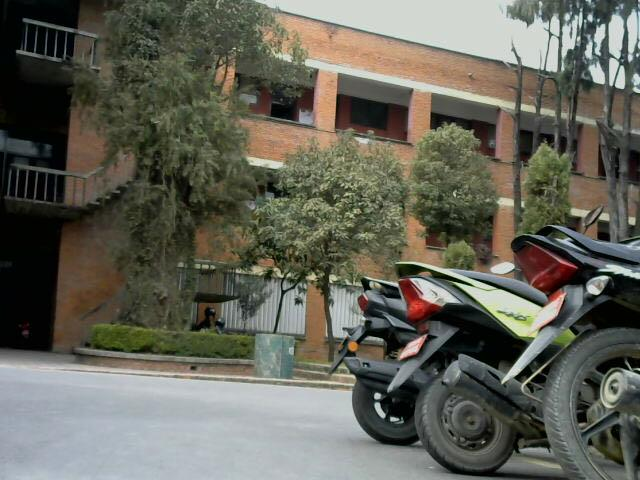Dustbin: (256, 334, 301, 379)
Road: (0, 369, 429, 479)
Traffic sign: (332, 204, 640, 475)
Tree: (111, 2, 250, 347), (269, 139, 420, 279), (411, 128, 504, 248)
